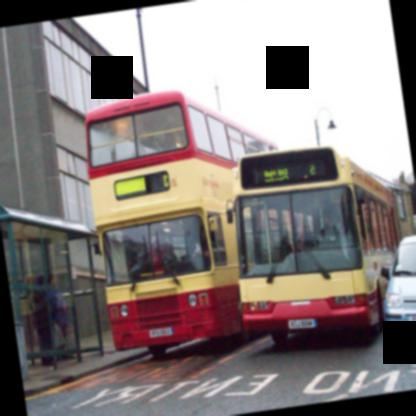handbag: (52, 317, 64, 347)
